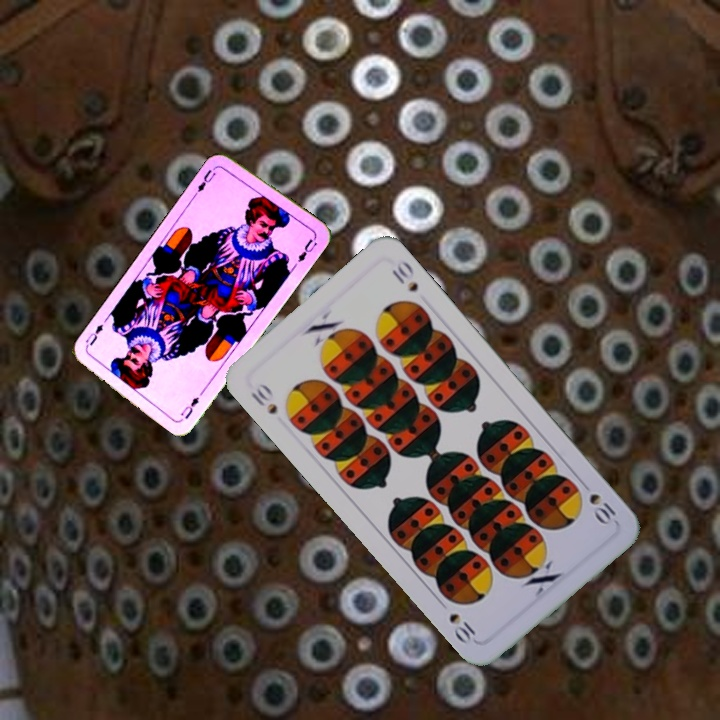EU: (190, 163, 219, 198), (176, 392, 202, 421)
S10: (585, 489, 619, 528), (246, 379, 280, 417)
